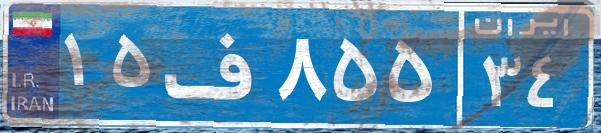1: (57, 26, 110, 107)
3: (475, 38, 525, 113)
4: (525, 38, 570, 115)
5: (385, 28, 445, 110), (330, 28, 385, 110), (110, 28, 158, 105)
8: (273, 28, 330, 110)
ف: (158, 15, 273, 115)
